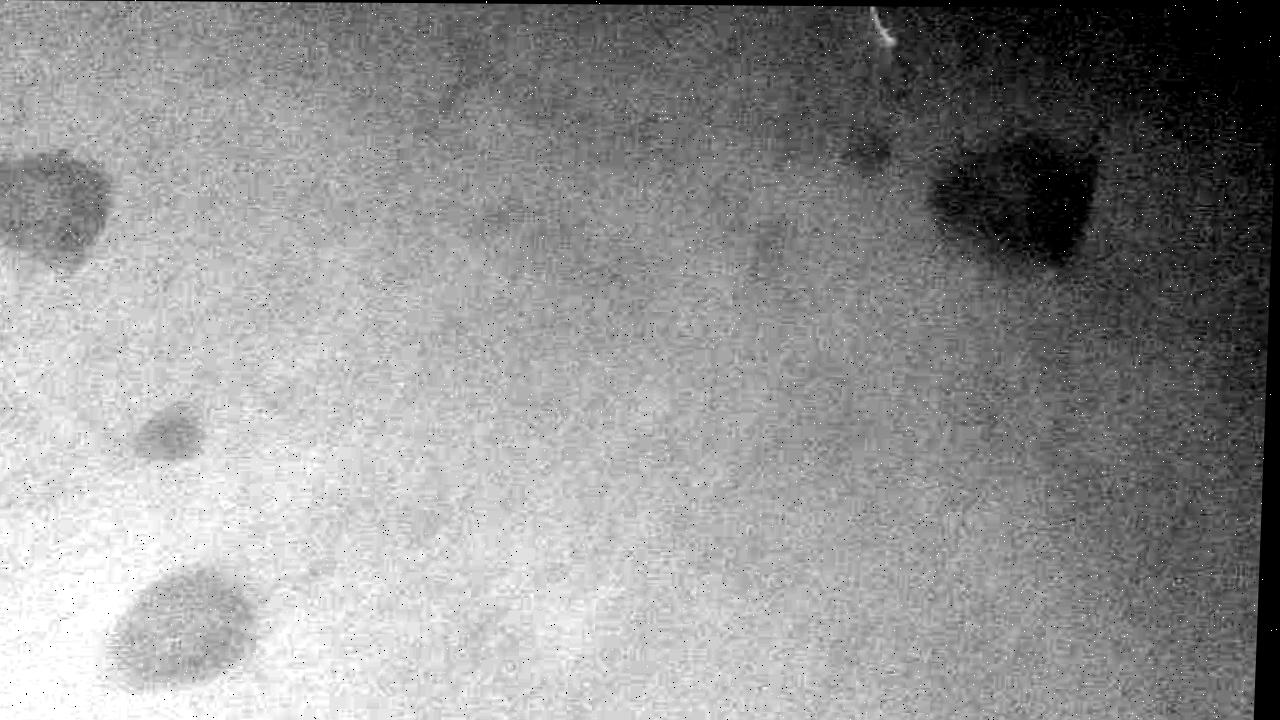drinks Stains: (830, 106, 1112, 283), (0, 58, 133, 312), (67, 543, 279, 686), (115, 400, 212, 496)
